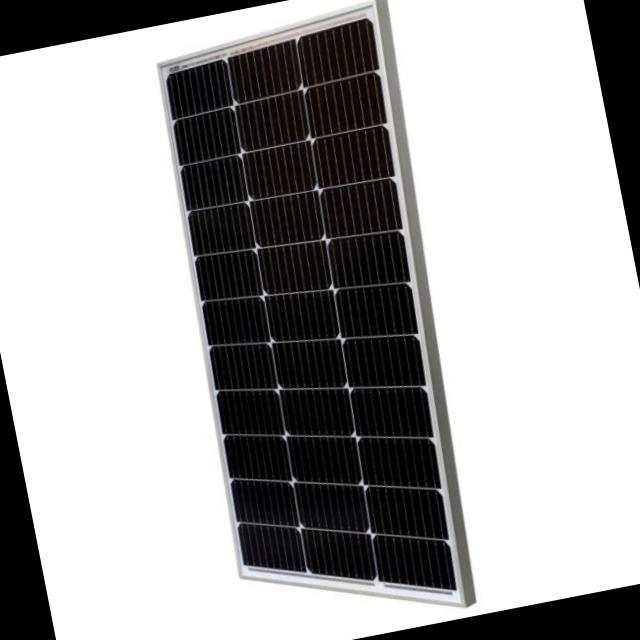no faulty: (167, 19, 457, 585)
